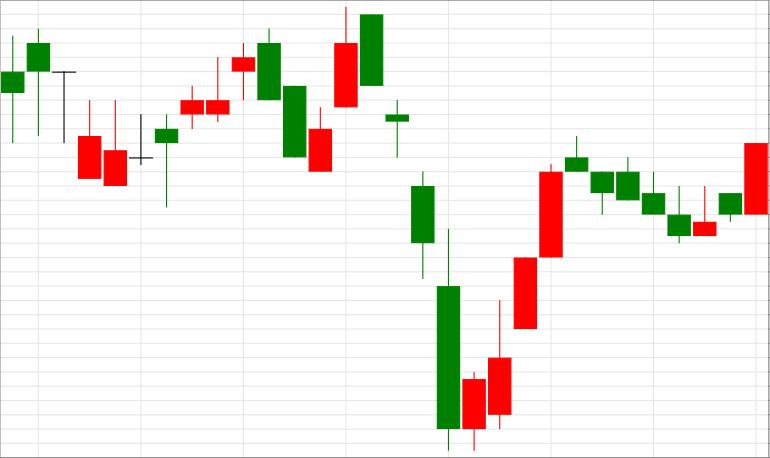three_white_soldiers_rise: (361, 14, 562, 450)
